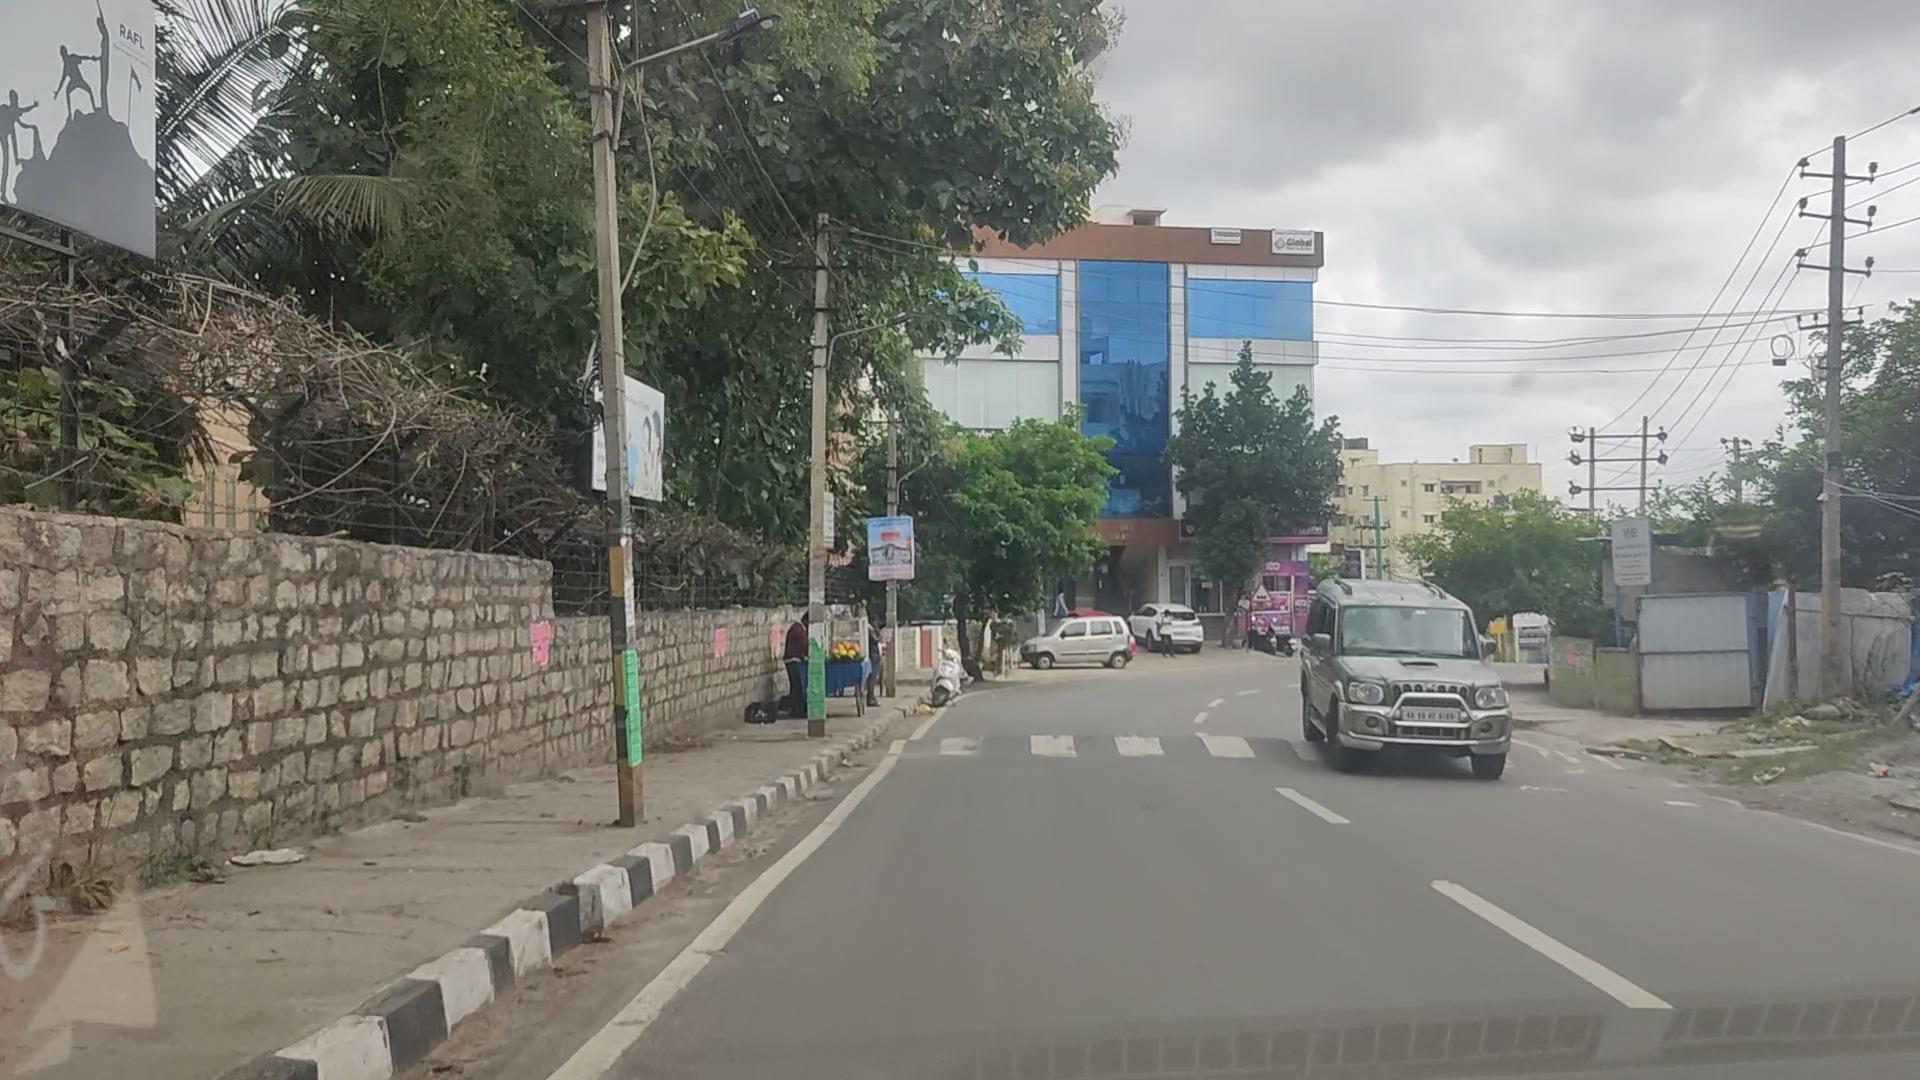LMV: (1303, 587, 1506, 774)
SpeedBump: (887, 733, 1302, 767)
